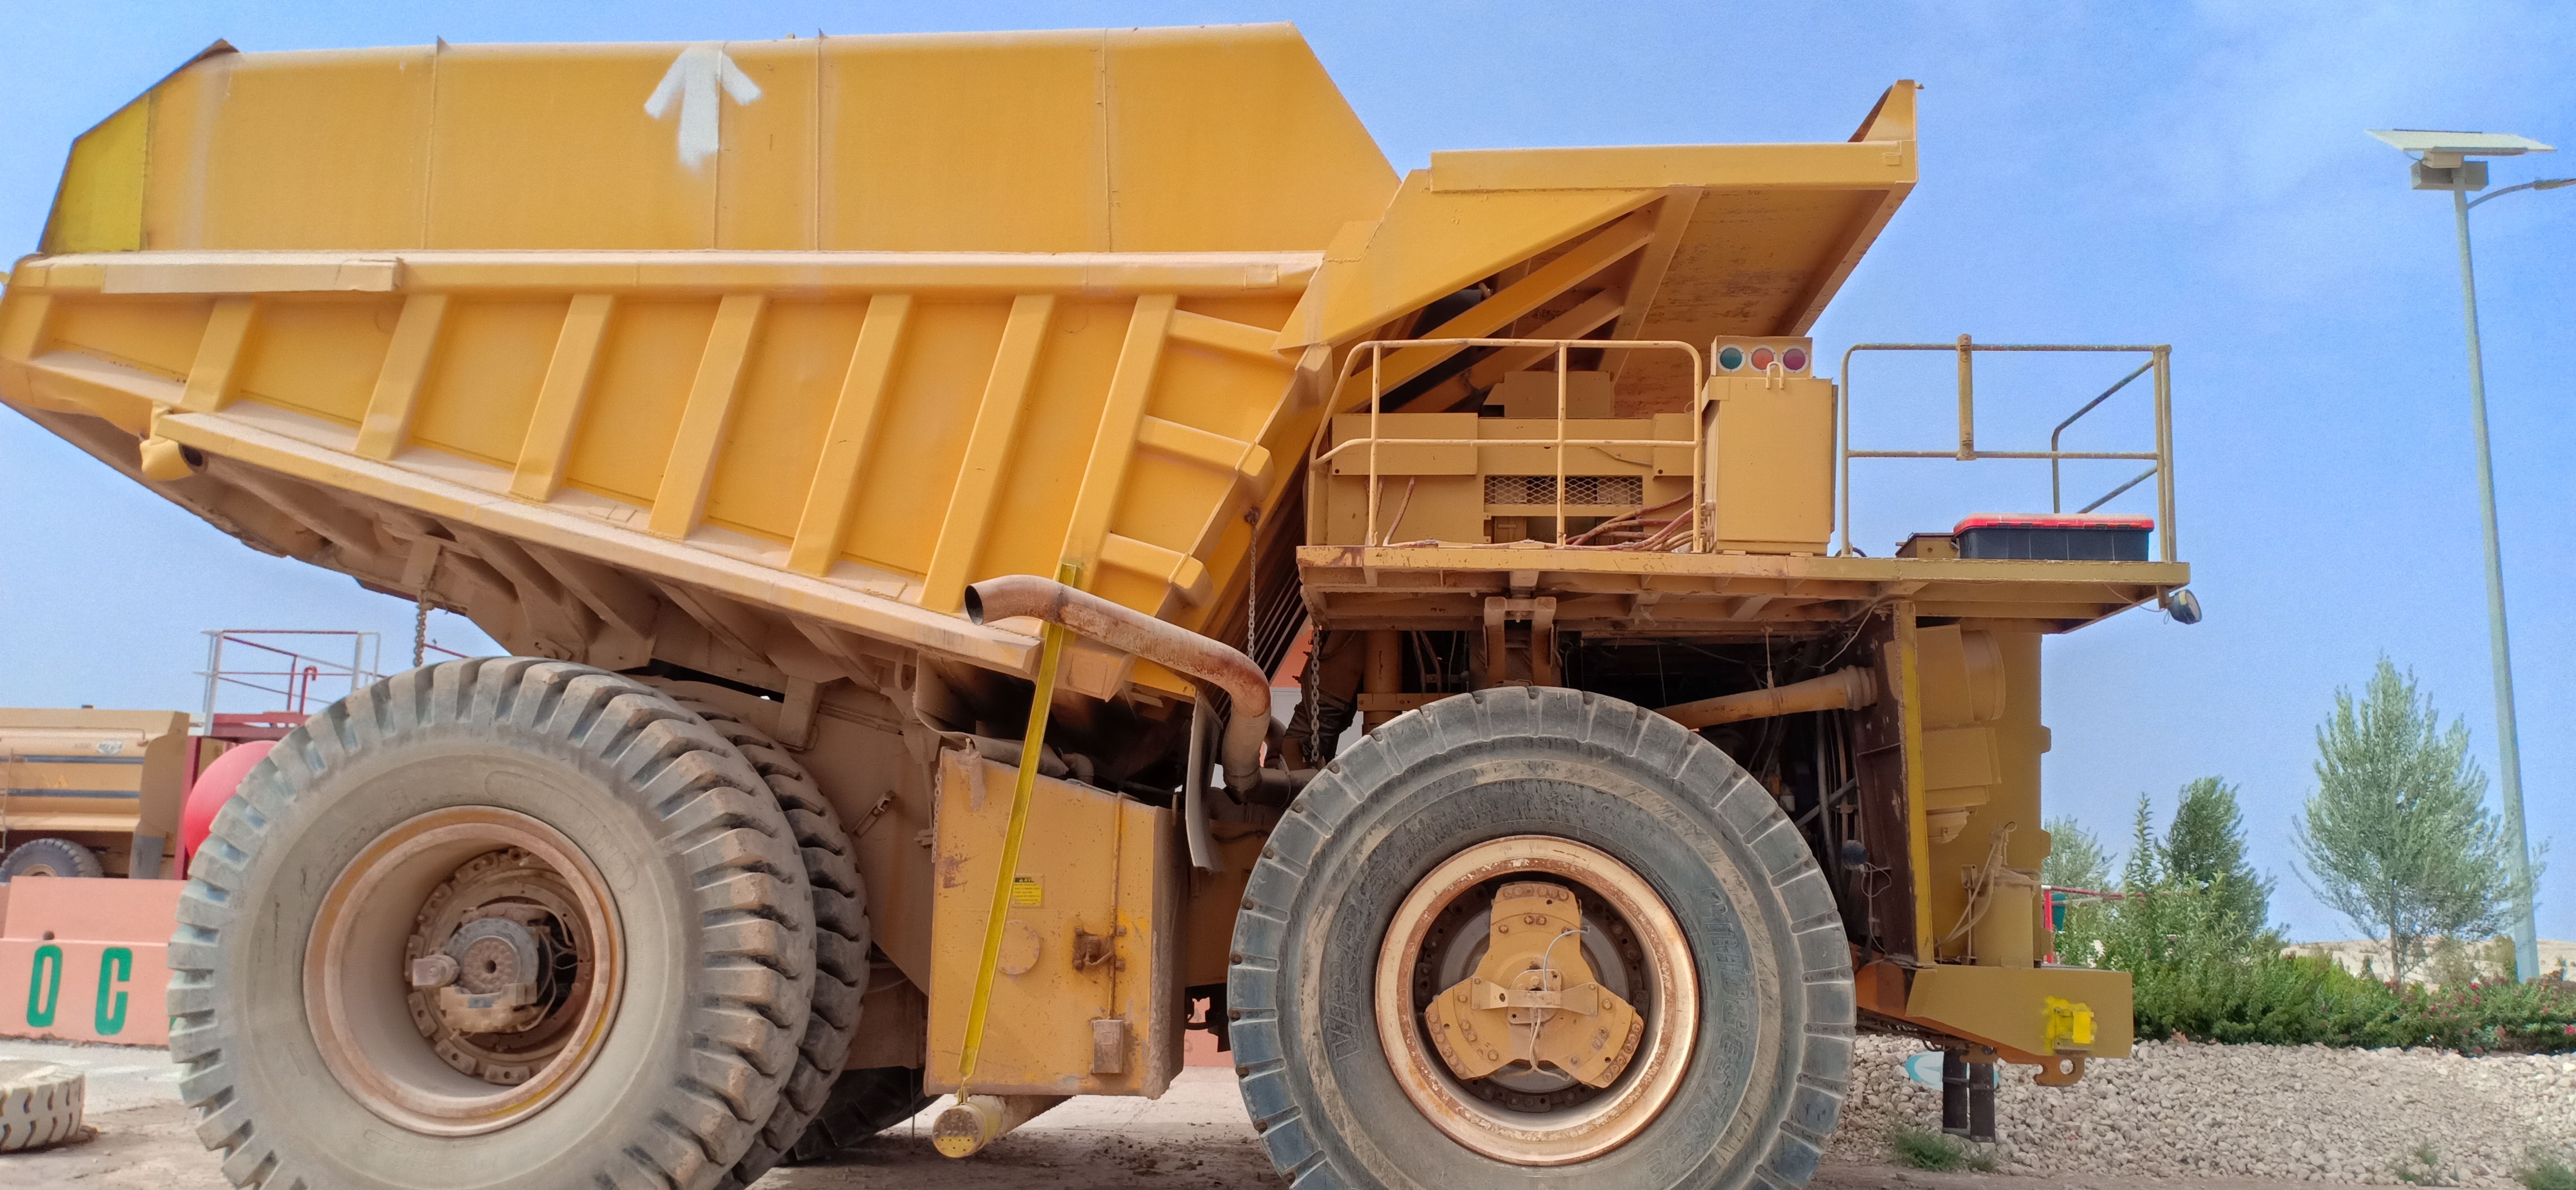camion: (56, 7, 2351, 1190)
